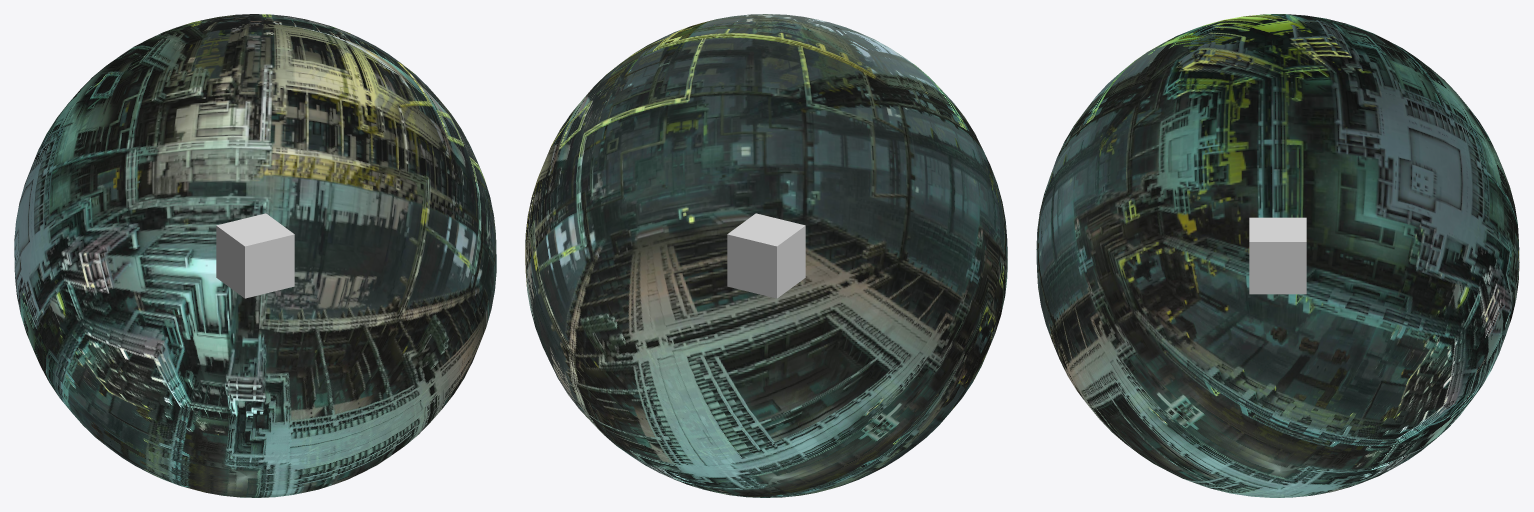
The picture shows the model from 3 angles, left to right: view 1: azimuth 30°, elevation 25°; view 2: azimuth 150°, elevation 25°; view 3: azimuth 270°, elevation 25°; orthographic projection.
Visible parts, largest first — view 1: texture sphere, Cube.015; view 2: texture sphere, Cube.015; view 3: texture sphere, Cube.015.
Boxes of the visible parts, x1,y1,x2,y2 form: texture sphere: [14, 14, 496, 497]; Cube.015: [216, 213, 294, 298]; texture sphere: [525, 14, 1007, 497]; Cube.015: [727, 213, 805, 298]; texture sphere: [1036, 14, 1519, 497]; Cube.015: [1249, 217, 1306, 294].
Bounding box in the file's own units: 104 × 105 × 104.
